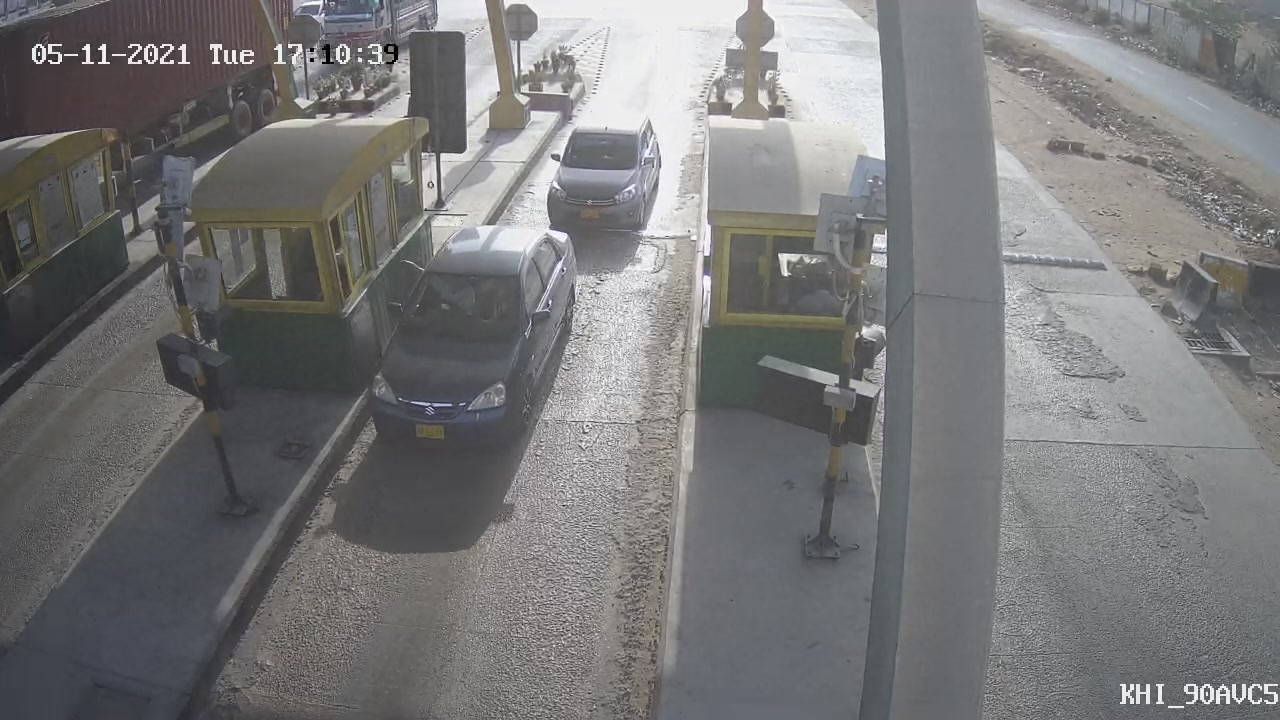F1: (337, 209, 592, 462), (525, 105, 677, 253)
